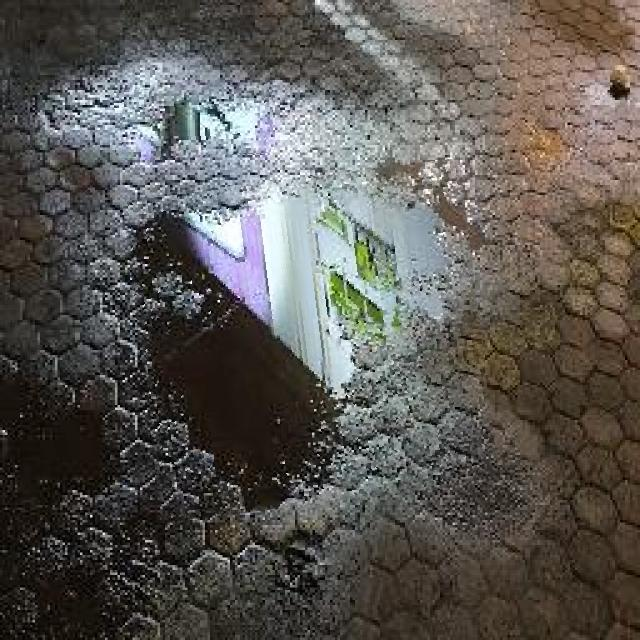puddle: (132, 169, 490, 514), (115, 87, 275, 158)
